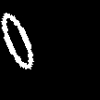chain: (1, 13, 33, 68)
